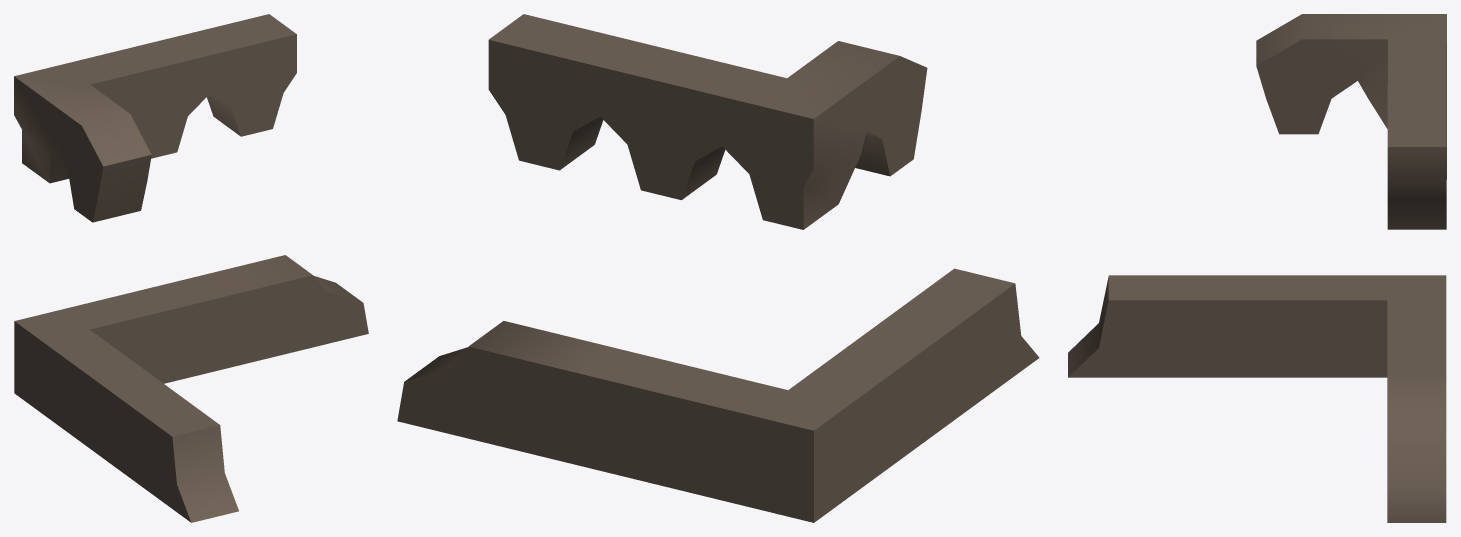
The model's file is hr_hkl3.glb.
The picture shows the model from 3 angles, left to right: view 1: azimuth 30°, elevation 25°; view 2: azimuth 150°, elevation 25°; view 3: azimuth 270°, elevation 25°; orthographic projection. The views are drawn at different scales.
Parts seen in each view (by area): view 1: hr_hkl3-col; view 2: hr_hkl3-col; view 3: hr_hkl3-col.
Part boxes in pixels (box(x1,y1,x2,y2)): hr_hkl3-col: box(14, 14, 368, 522); hr_hkl3-col: box(397, 14, 1039, 522); hr_hkl3-col: box(1068, 14, 1446, 522).
Bounding box in the file's own units: 6.15 × 5.7 × 5.78.
Materials: 1 (1 with a texture image).
